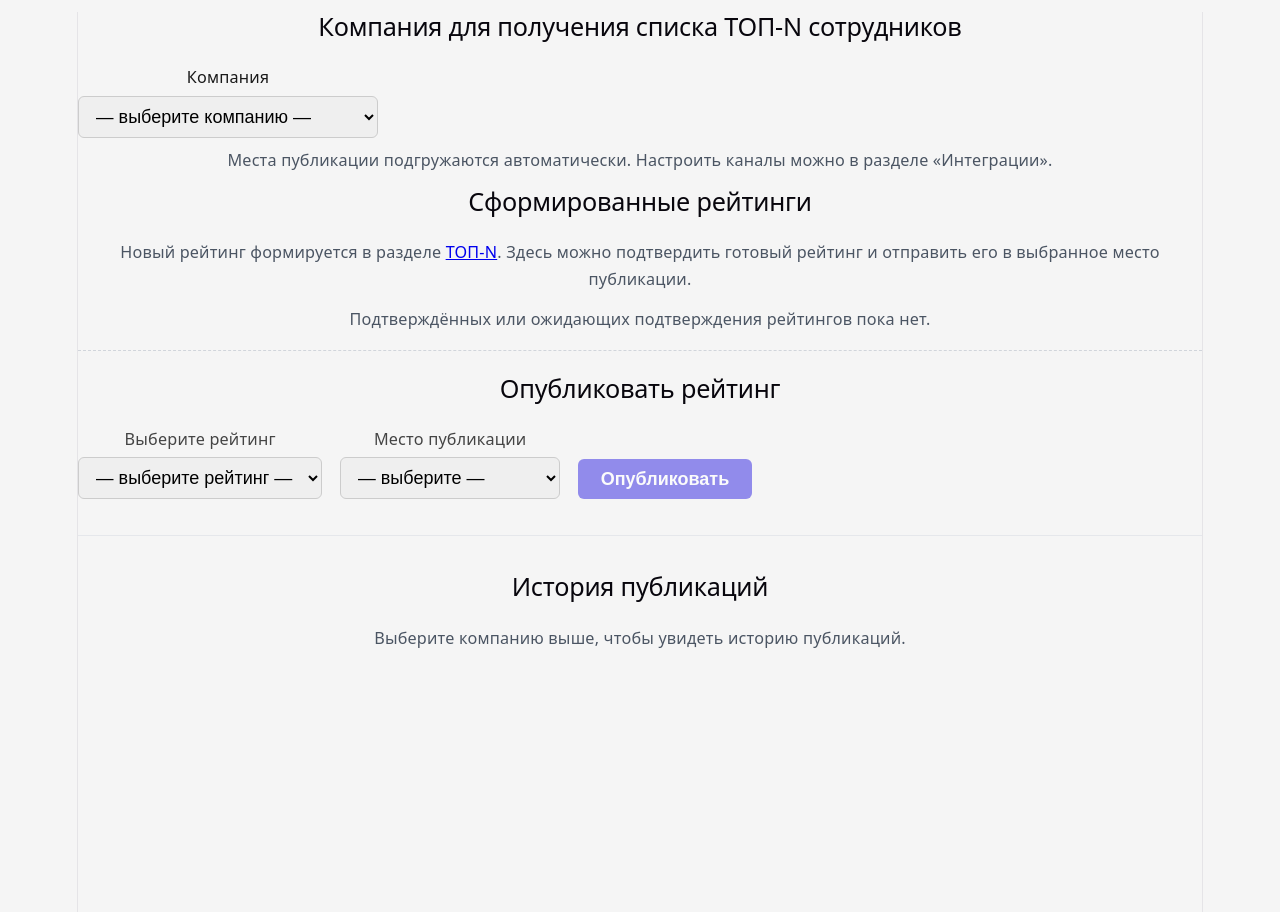
Scenario: PublicationsPage › после отмены публикации статус строки обновляется на RECALLED
The image size is (1280, 912).
Select "Тестовая компания" in the dropdown labelled "Компания". click: x=228, y=117
box: [78,96,378,138]
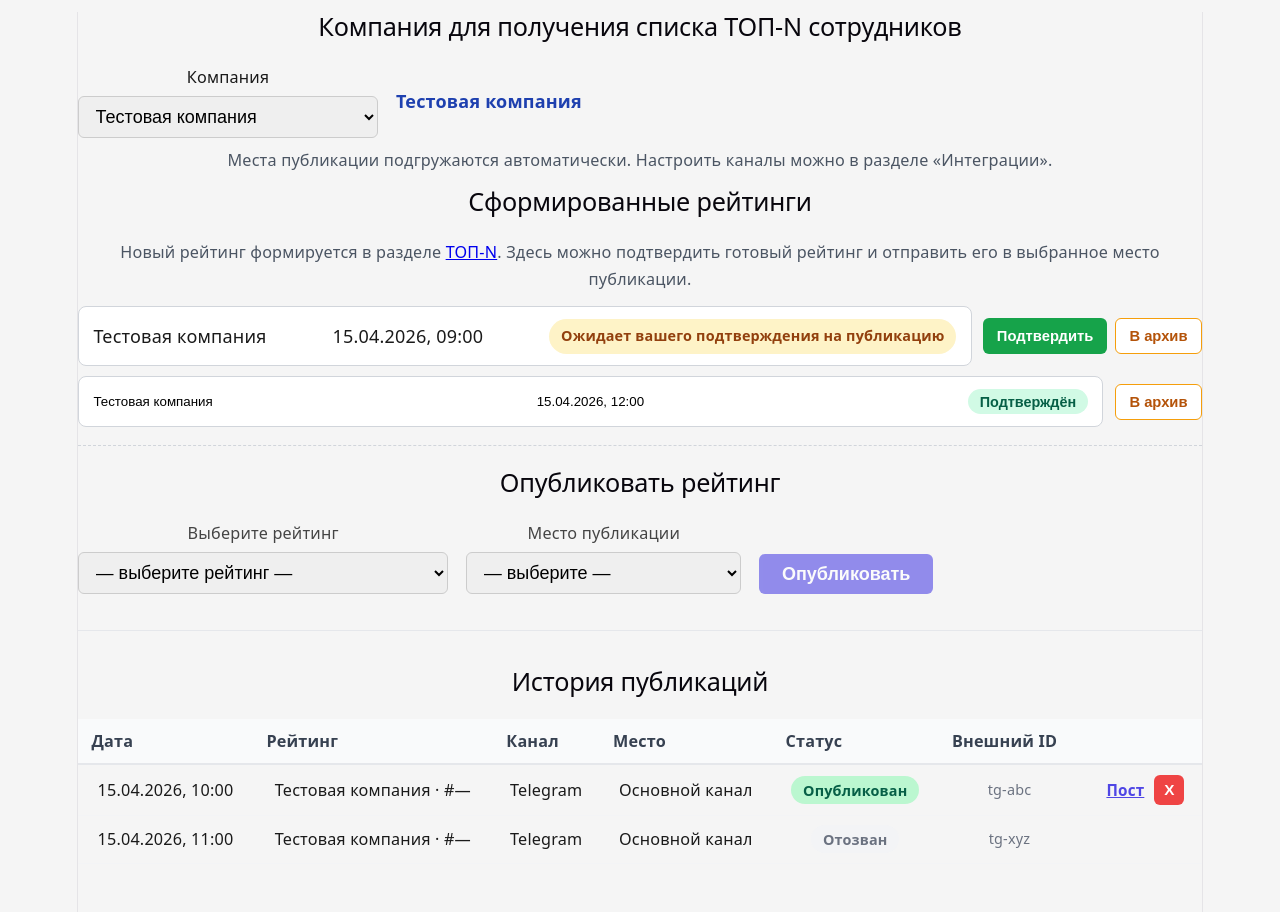
Now the button named "отмена" is shown
Click the button named "отмена". click: x=1169, y=790
box: [1154,775,1184,805]
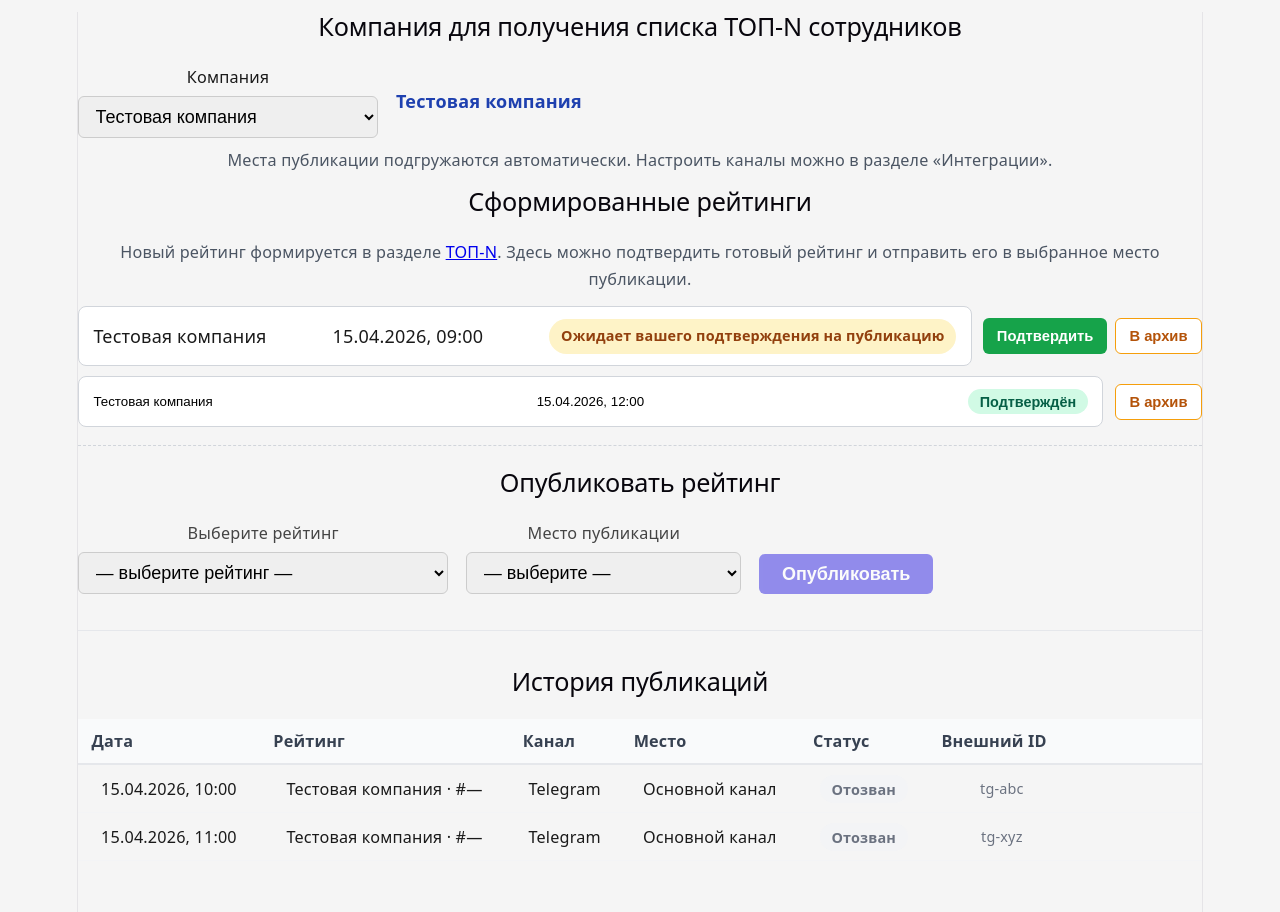
Now the text "Отозван" is shown 2 times, box [820,775,908,803]; [820,823,908,851]
Now the button "отмена" is gone
